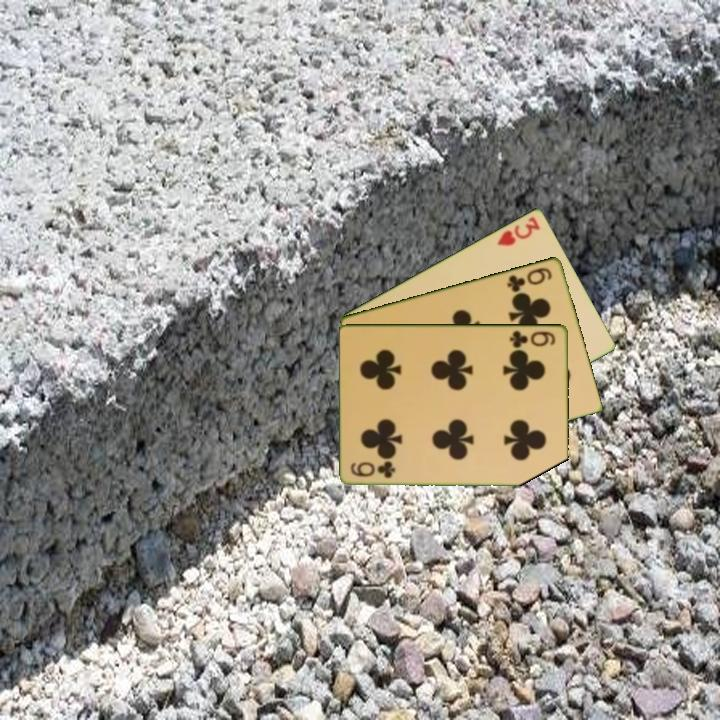3h: (493, 213, 543, 249)
6c: (504, 264, 555, 295), (507, 326, 558, 350), (347, 459, 398, 480)
